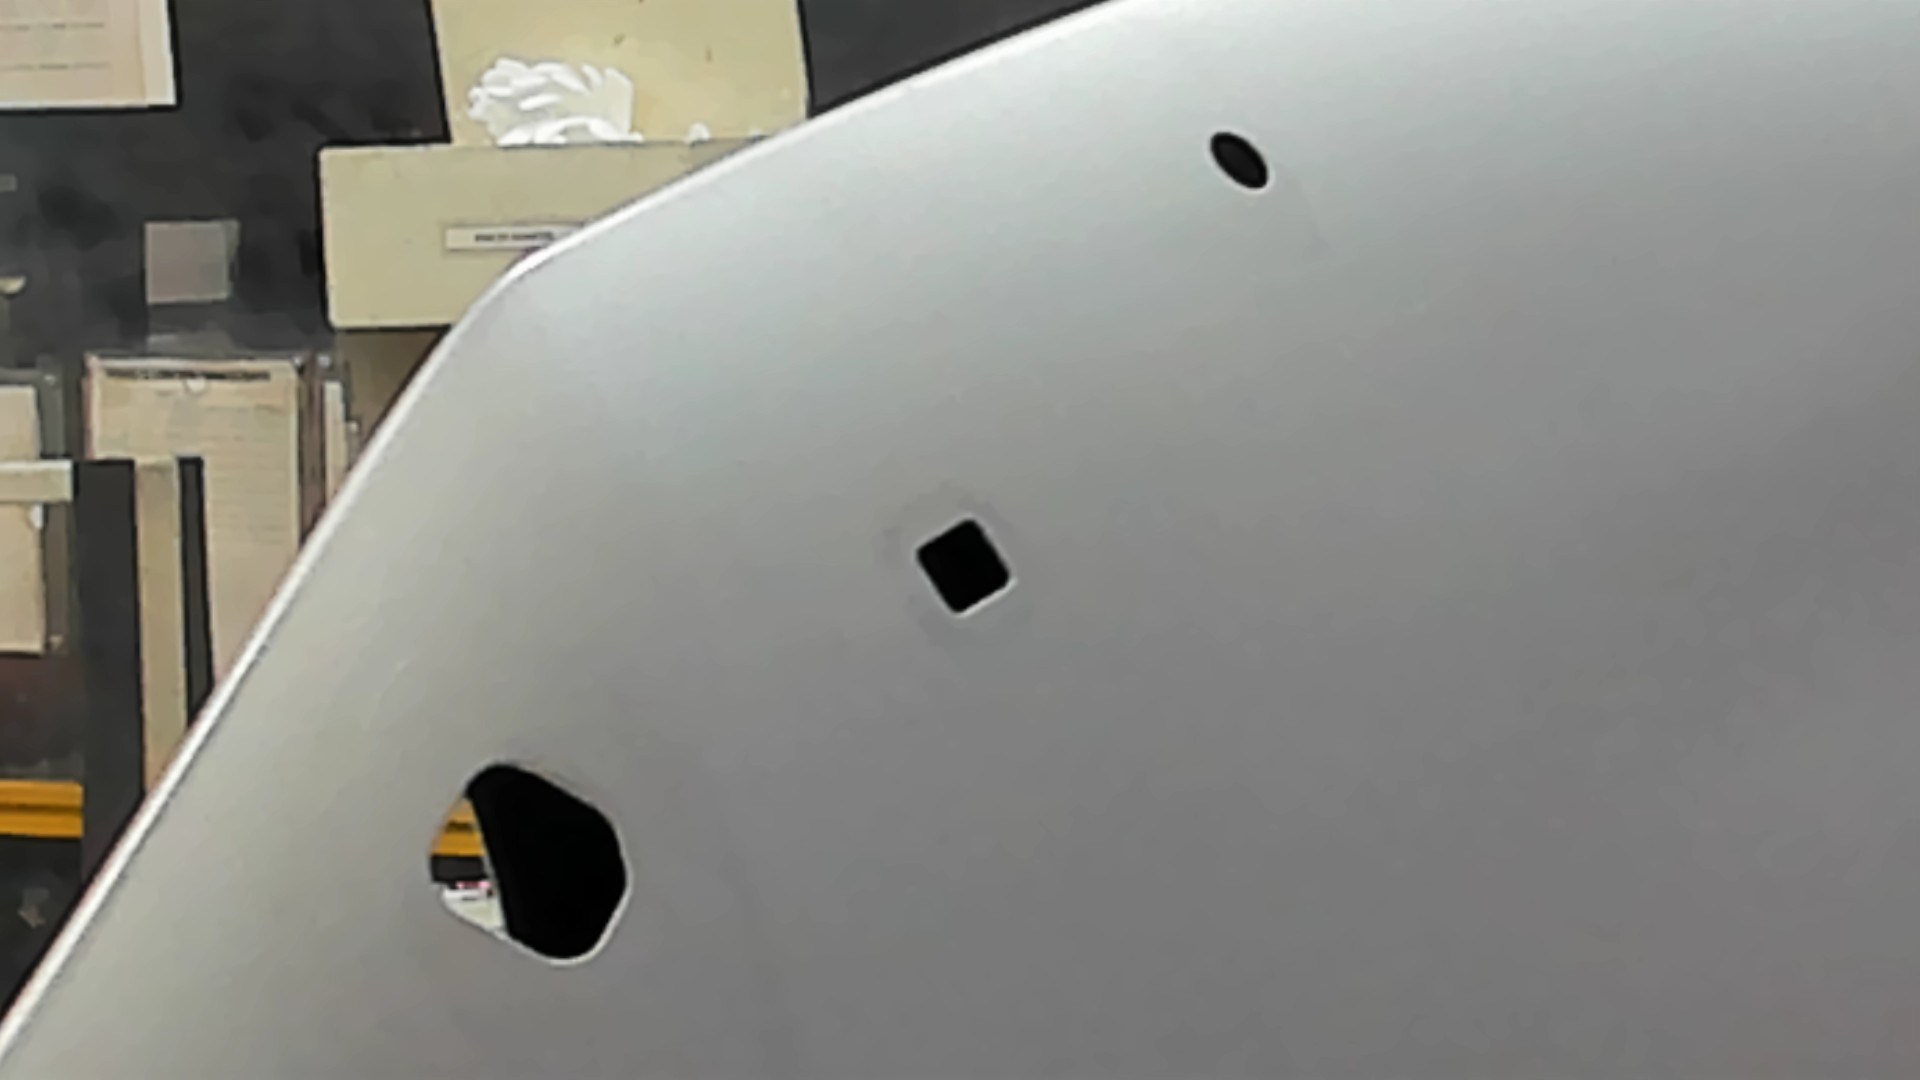Agujero: (911, 517, 1013, 616), (1207, 129, 1273, 190)
Agujerote: (426, 760, 636, 969)
